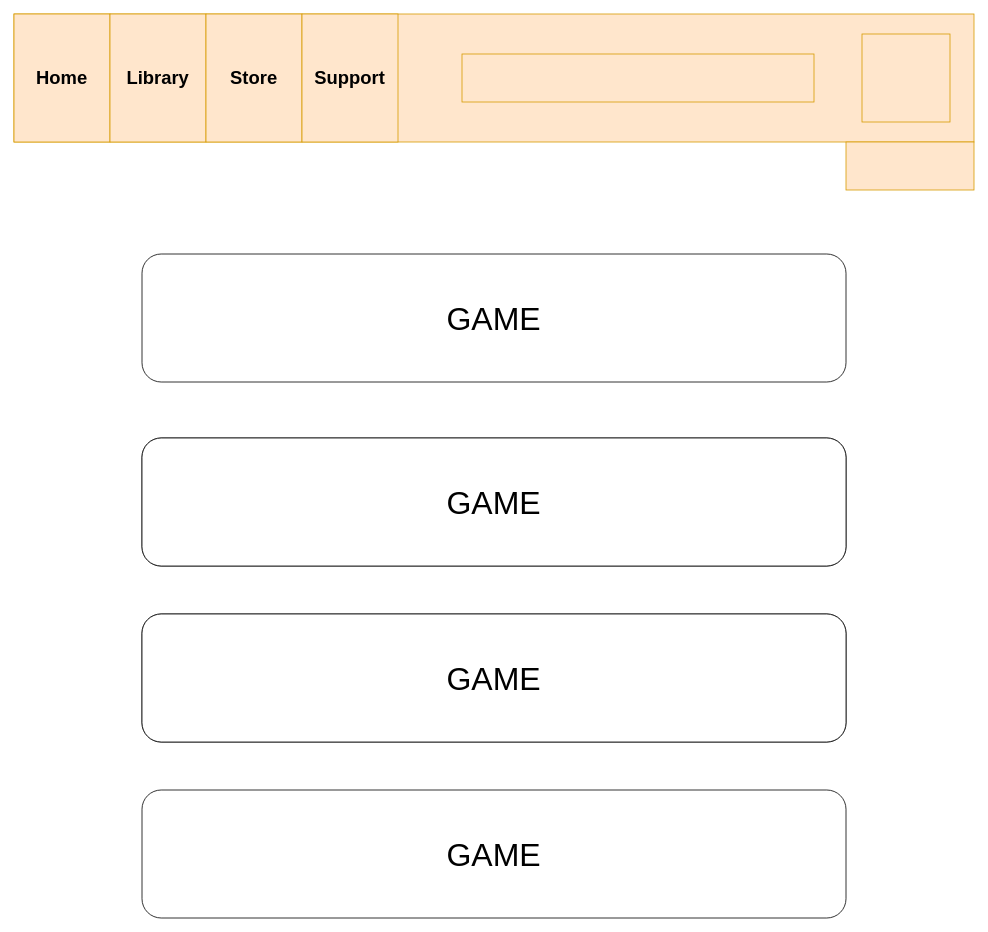
The diagram is 988 pixels wide and 932 high, and some of its shapes have lost their labels. Here are the shapes that lost their labels. From the top down, the centre of each, then its label:
At [637,77]: "TITLE".
At [905,77]: "LOGO".
At [909,165]: "Search window".
